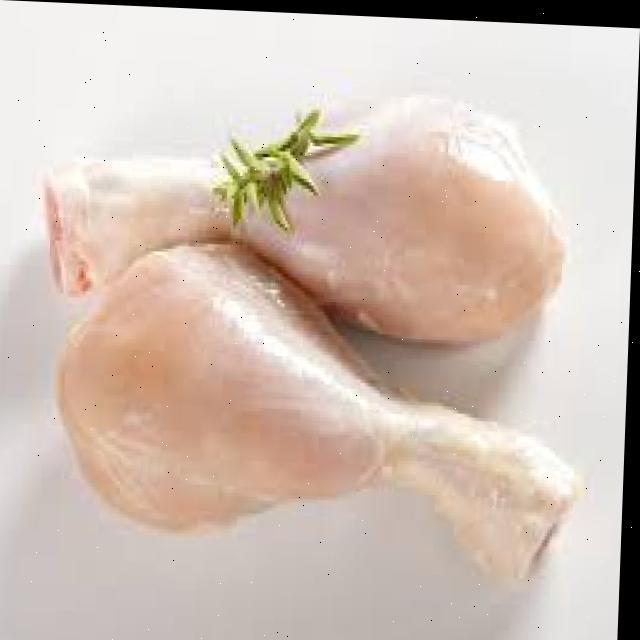leg: (54, 230, 594, 594), (19, 78, 564, 340)
